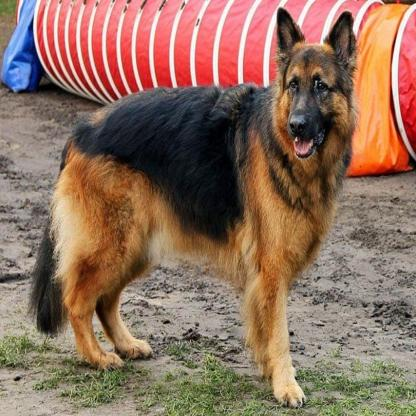german shepherd: (29, 11, 356, 403)
